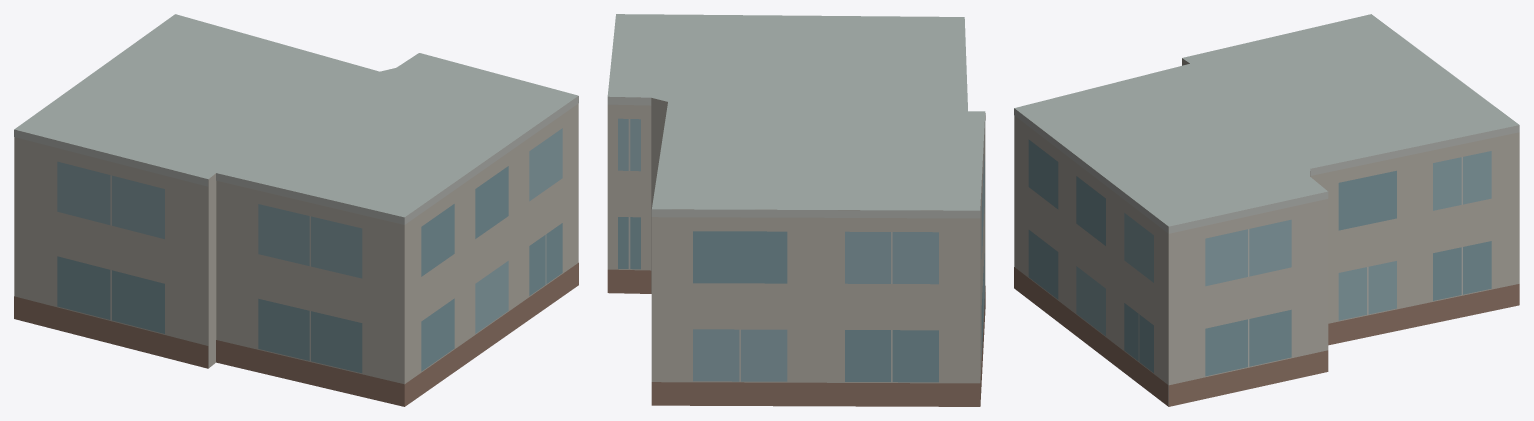
Rendered from survey-upis-32674321.glb.
3 views of the same model, side by side, from view 1: azimuth 30°, elevation 25°; view 2: azimuth 150°, elevation 25°; view 3: azimuth 270°, elevation 25° (orthographic). The views are drawn at different scales.
Visible parts, largest first — view 1: survey-upis-32674321.tmp; view 2: survey-upis-32674321.tmp; view 3: survey-upis-32674321.tmp.
Boxes of the visible parts, <box> form: survey-upis-32674321.tmp: <box>14,14,578,406</box>; survey-upis-32674321.tmp: <box>607,14,985,406</box>; survey-upis-32674321.tmp: <box>1014,14,1519,406</box>.
Size of the model in its own units: 15.45 by 6.1 by 15.52.
